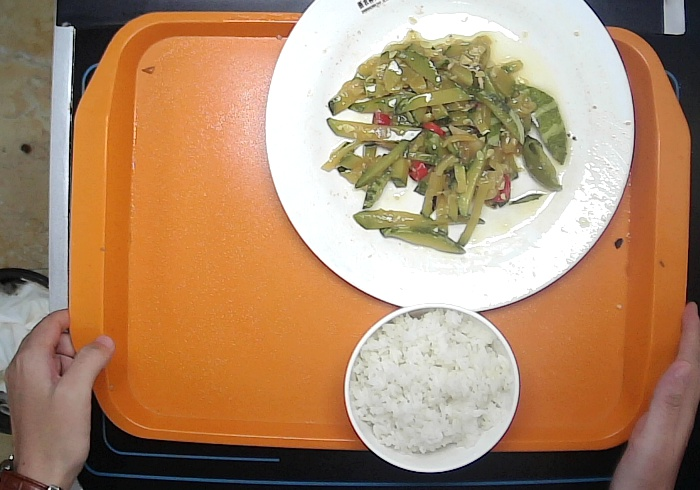ZNLD-Da_Yuan_Pan: (261, 1, 643, 319)
ZNLD-Fan_Wan: (342, 291, 525, 478)
